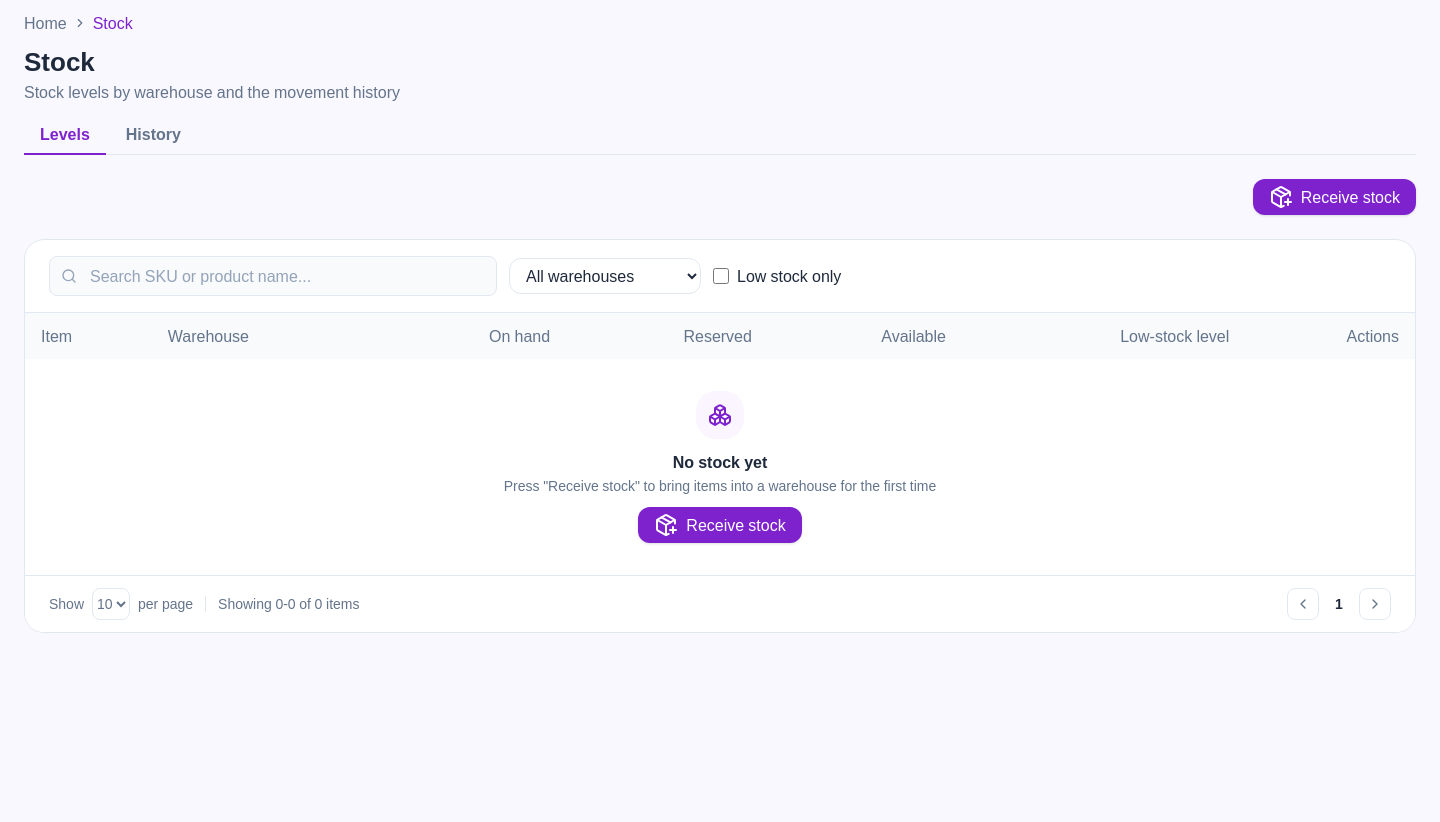
Scenario: StockPage › panel ທີ່ບໍ່ active ຖືກຊ່ອນຈິງ ແລະ aria-controls ຊີ້ຖືກ panel
Click the tab "History": (153, 134) top-left (110, 114), bottom-right (197, 154)
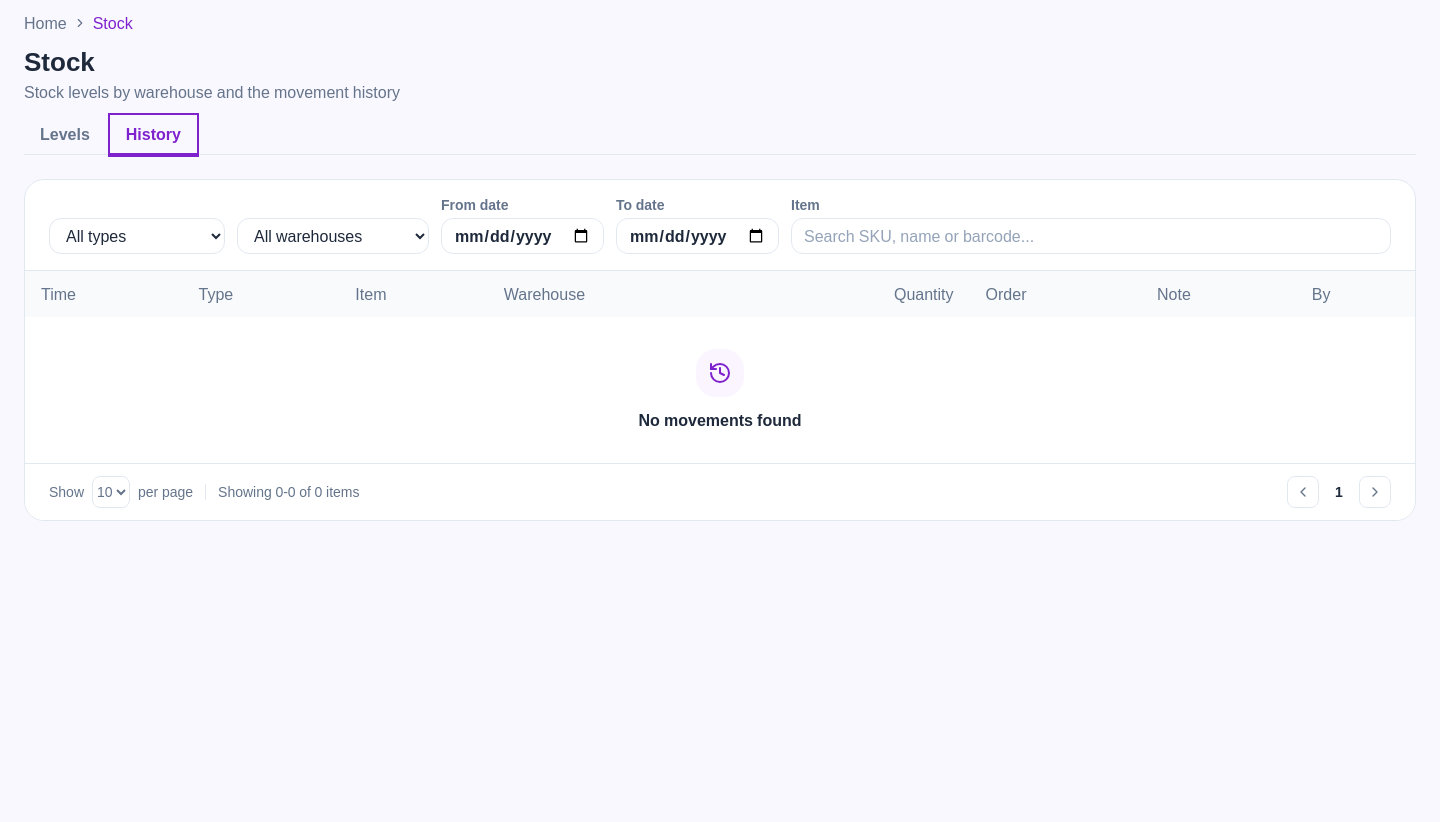
Result: the number of panels is 1 at top-left (24, 178), bottom-right (1416, 520)
